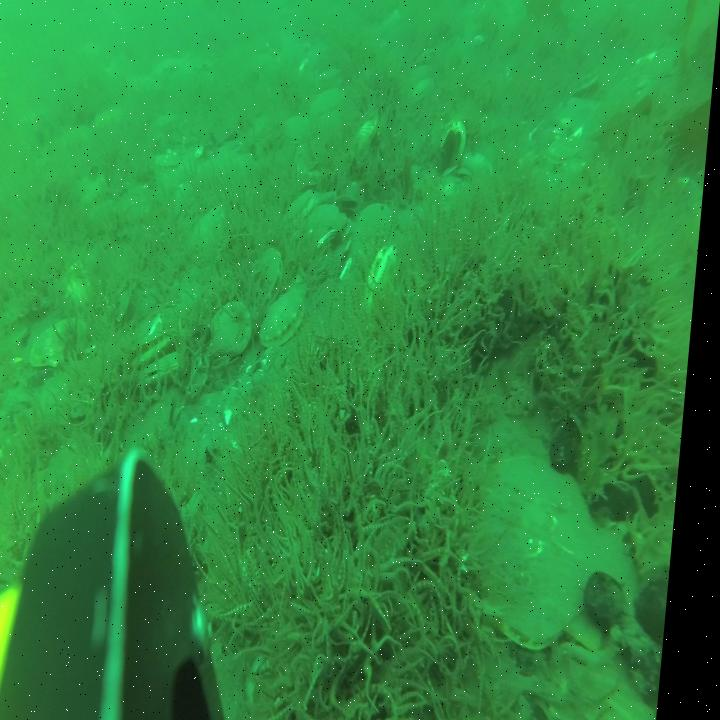scallop: (473, 451, 610, 651), (575, 530, 651, 638), (574, 612, 639, 700), (52, 438, 108, 507), (36, 310, 92, 375), (314, 275, 368, 342), (192, 208, 236, 268), (268, 287, 310, 346), (356, 198, 401, 253), (214, 305, 259, 354), (255, 249, 294, 305), (307, 204, 349, 256), (144, 354, 190, 396), (549, 128, 592, 164), (139, 335, 181, 369), (287, 187, 320, 226), (315, 84, 346, 121), (286, 111, 318, 146), (354, 113, 381, 152)
